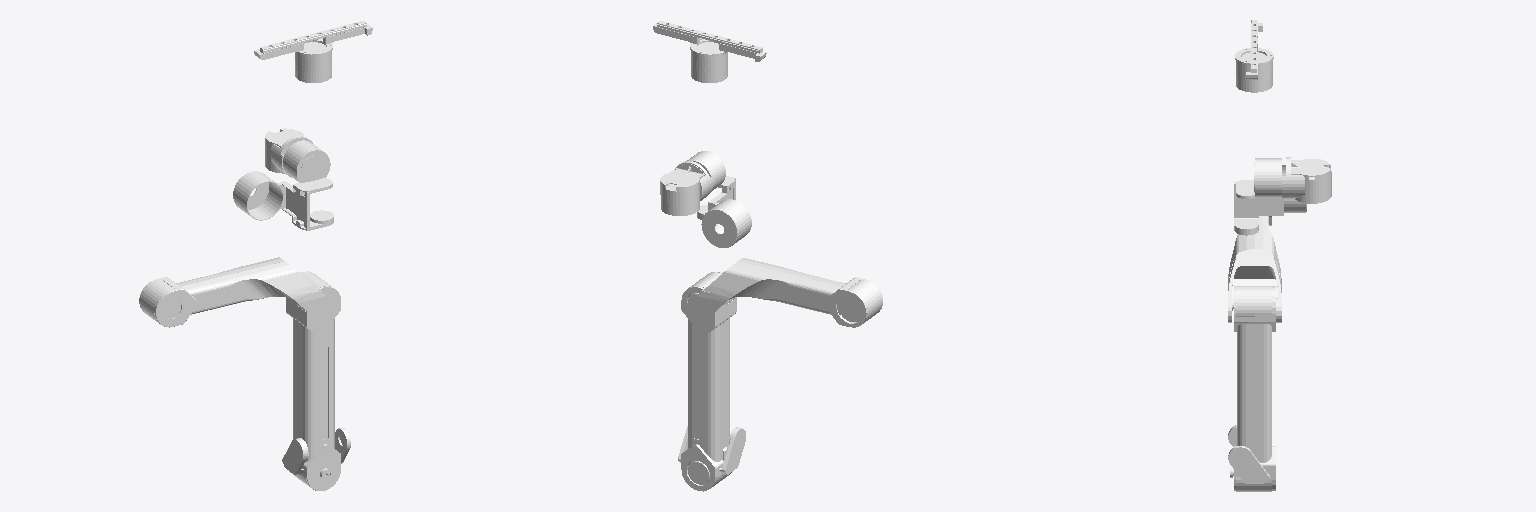
robot.urdf — rm_65_description:
<?xml version="1.0" encoding="utf-8"?>
<robot
  name="rm_65_description">
  <link
    name="base_link">
    <inertial>
      <origin
        xyz="-0.000433277303987328 -3.54664423471128E-05 0.0599427668933796"
        rpy="0 0 0" />
      <mass
        value="0.841070778135659" />
      <inertia
        ixx="0.0017261110801622"
        ixy="2.52746264980217E-06"
        ixz="-3.67690303614961E-05"
        iyy="0.00170987405835604"
        iyz="1.67996364994424E-06"
        izz="0.000904023422915791" />
    </inertial>
    <visual>
      <origin
        xyz="0 0 0"
        rpy="0 0 0" />
      <geometry>
        <mesh
          filename="package://rm_65_description/meshes/base_link.STL" />
      </geometry>
      <material
        name="">
        <color
          rgba="1 1 1 1" />
      </material>
    </visual>
    <collision>
      <origin
        xyz="0 0 0"
        rpy="0 0 0" />
      <geometry>
        <mesh
          filename="package://rm_65_description/meshes/base_link.STL" />
      </geometry>
    </collision>
  </link>
  <link
    name="Link1">
    <inertial>
      <origin
        xyz="1.2226305431569E-08 0.0211079974844683 -0.0251854220842269"
        rpy="0 0 0" />
      <mass
        value="0.593563443690403" />
      <inertia
        ixx="0.00126614120341847"
        ixy="-1.294980943835E-08"
        ixz="-9.80120923066996E-09"
        iyy="0.00118168178300364"
        iyz="-0.00021121727444415"
        izz="0.00056135241627747" />
    </inertial>
    <visual>
      <origin
        xyz="0 0 0"
        rpy="0 0 0" />
      <geometry>
        <mesh
          filename="package://rm_65_description/meshes/link1.STL" />
      </geometry>
      <material
        name="">
        <color
          rgba="1 1 1 1" />
      </material>
    </visual>
    <collision>
      <origin
        xyz="0 0 0"
        rpy="0 0 0" />
      <geometry>
        <mesh
          filename="package://rm_65_description/meshes/link1.STL" />
      </geometry>
    </collision>
  </link>
  <joint
    name="joint1"
    type="revolute">
    <origin
      xyz="0 0 0.2405"
      rpy="0 0 0" />
    <parent
      link="base_link" />
    <child
      link="Link1" />
    <axis
      xyz="0 0 1" />
    <limit
      lower="-3.14"
      upper="3.14"
      effort="60"
      velocity="3.14" />
  </joint>
  <link
    name="Link2">
    <inertial>
      <origin
        xyz="0.152256463426163 4.75383656106654E-07 -0.00620260383607792"
        rpy="0 0 0" />
      <mass
        value="0.864175046869043" />
      <inertia
        ixx="0.00089150298478414"
        ixy="-2.23268489334765E-08"
        ixz="0.00156246461035015"
        iyy="0.00733754343083901"
        iyz="6.28110889329165E-09"
        izz="0.00697869103915473" />
    </inertial>
    <visual>
      <origin
        xyz="0 0 0"
        rpy="0 0 0" />
      <geometry>
        <mesh
          filename="package://rm_65_description/meshes/link2.STL" />
      </geometry>
      <material
        name="">
        <color
          rgba="1 1 1 1" />
      </material>
    </visual>
    <collision>
      <origin
        xyz="0 0 0"
        rpy="0 0 0" />
      <geometry>
        <mesh
          filename="package://rm_65_description/meshes/link2.STL" />
      </geometry>
    </collision>
  </link>
  <joint
    name="joint2"
    type="revolute">
    <origin
      xyz="0 0 0"
      rpy="1.5708 -1.5708 0" />
    <parent
      link="Link1" />
    <child
      link="Link2" />
    <axis
      xyz="0 0 1" />
    <limit
      lower="-2.268"
      upper="2.268"
      effort="60"
      velocity="3.14" />
  </joint>
  <link
    name="Link3">
    <inertial>
      <origin
        xyz="5.05312670989961E-06 -0.0595925663694732 0.010569069212336"
        rpy="0 0 0" />
      <mass
        value="0.289633681624654" />
      <inertia
        ixx="0.00063737100450158"
        ixy="-7.05261293649751E-08"
        ixz="-3.86643272239426E-08"
        iyy="0.00015648388095025"
        iyz="-0.00014461035994916"
        izz="0.000614178164773085" />
    </inertial>
    <visual>
      <origin
        xyz="0 0 0"
        rpy="0 0 0" />
      <geometry>
        <mesh
          filename="package://rm_65_description/meshes/link3.STL" />
      </geometry>
      <material
        name="">
        <color
          rgba="1 1 1 1" />
      </material>
    </visual>
    <collision>
      <origin
        xyz="0 0 0"
        rpy="0 0 0" />
      <geometry>
        <mesh
          filename="package://rm_65_description/meshes/link3.STL" />
      </geometry>
    </collision>
  </link>
  <joint
    name="joint3"
    type="revolute">
    <origin
      xyz="0.256 0 0"
      rpy="0 0 1.5708" />
    <parent
      link="Link2" />
    <child
      link="Link3" />
    <axis
      xyz="0 0 1" />
    <limit
      lower="-2.355"
      upper="2.355"
      effort="30"
      velocity="3.92" />
  </joint>
  <link
    name="Link4">
    <inertial>
      <origin
        xyz="1.15516617405898E-06 -0.0180424468598241 -0.0215394748352687"
        rpy="0 0 0" />
      <mass
        value="0.239419768320061" />
      <inertia
        ixx="0.000285938919722783"
        ixy="3.07101359163101E-09"
        ixz="-2.21994118981953E-09"
        iyy="0.000262727540304212"
        iyz="4.4236583260078E-05"
        izz="0.000119888082791859" />
    </inertial>
    <visual>
      <origin
        xyz="0 0 0"
        rpy="0 0 0" />
      <geometry>
        <mesh
          filename="package://rm_65_description/meshes/link4.STL" />
      </geometry>
      <material
        name="">
        <color
          rgba="1 1 1 1" />
      </material>
    </visual>
    <collision>
      <origin
        xyz="0 0 0"
        rpy="0 0 0" />
      <geometry>
        <mesh
          filename="package://rm_65_description/meshes/link4.STL" />
      </geometry>
    </collision>
  </link>
  <joint
    name="joint4"
    type="revolute">
    <origin
      xyz="0 -0.21 0"
      rpy="1.5708 0 0" />
    <parent
      link="Link3" />
    <child
      link="Link4" />
    <axis
      xyz="0 0 1" />
    <limit
      lower="-3.14"
      upper="3.14"
      effort="10"
      velocity="3.92" />
  </joint>
  <link
    name="Link5">
    <inertial>
      <origin
        xyz="3.19794786262152E-06 -0.0593808368101458 0.00736804250989326"
        rpy="0 0 0" />
      <mass
        value="0.218799761431678" />
      <inertia
        ixx="0.000350540363914072"
        ixy="-3.41781619975602E-08"
        ixz="-1.77056457224373E-08"
        iyy="0.000104927867487581"
        iyz="-7.82431228461971E-05"
        izz="0.000334482418423629" />
    </inertial>
    <visual>
      <origin
        xyz="0 0 0"
        rpy="0 0 0" />
      <geometry>
        <mesh
          filename="package://rm_65_description/meshes/link5.STL" />
      </geometry>
      <material
        name="">
        <color
          rgba="1 1 1 1" />
      </material>
    </visual>
    <collision>
      <origin
        xyz="0 0 0"
        rpy="0 0 0" />
      <geometry>
        <mesh
          filename="package://rm_65_description/meshes/link5.STL" />
      </geometry>
    </collision>
  </link>
  <joint
    name="joint5"
    type="revolute">
    <origin
      xyz="0 0 0"
      rpy="-1.5708 0 0" />
    <parent
      link="Link4" />
    <child
      link="Link5" />
    <axis
      xyz="0 0 1" />
    <limit
      lower="-2.233"
      upper="2.233"
      effort="10"
      velocity="3.92" />
  </joint>
  <link
    name="Link6">
    <inertial>
      <origin
        xyz="0.000714234511756999 -0.000396718732824521 -0.0126723660946126"
        rpy="0 0 0" />
      <mass
        value="0.0649018034311231" />
      <inertia
        ixx="2.02766547502765E-05"
        ixy="-1.32505200276849E-06"
        ixz="-2.5845091522508E-08"
        iyy="1.87986725225022E-05"
        iyz="3.39471452125439E-09"
        izz="3.17885459163081E-05" />
    </inertial>
    <visual>
      <origin
        xyz="0 0 0"
        rpy="0 0 0" />
      <geometry>
        <mesh
          filename="package://rm_65_description/meshes/link6.STL" />
      </geometry>
      <material
        name="">
        <color
          rgba="1 1 1 1" />
      </material>
    </visual>
    <collision>
      <origin
        xyz="0 0 0"
        rpy="0 0 0" />
      <geometry>
        <mesh
          filename="package://rm_65_description/meshes/link6.STL" />
      </geometry>
    </collision>
  </link>
  <joint
    name="joint6"
    type="continuous">
    <origin
      xyz="0 -0.144 0"
      rpy="1.5708 0 0" />
    <parent
      link="Link5" />
    <child
      link="Link6" />
    <axis
      xyz="0 0 1" />
    <limit
      lower="-6.28"
      upper="6.28"
      effort="10"
      velocity="3.92" />
  </joint>
</robot>

--- Facts derived from the render (not from the file) ---
Views: 3 orthographic renders of the robot side by side, from view 1: azimuth 30°, elevation 25°; view 2: azimuth 150°, elevation 25°; view 3: azimuth 270°, elevation 25°.
Robot: rm_65_description — 7 links, 6 joints (5 revolute, 1 continuous); root link base_link; default pose: all joints at 0.
Links seen in each view (by area): view 1: Link2, Link3, Link4, Link6, Link5, Link1; view 2: Link2, Link3, Link5, Link6, Link4, Link1; view 3: Link2, Link5, Link3, Link4, Link6, Link1.
Link boxes in pixels (box(x1,y1,x2,y2)): Link2: box(286, 271, 340, 490); Link3: box(139, 257, 337, 327); Link4: box(233, 171, 333, 230); Link6: box(254, 21, 372, 82); Link5: box(265, 128, 330, 182); Link1: box(282, 428, 350, 474); Link2: box(681, 272, 736, 491); Link3: box(685, 258, 882, 327); Link5: box(660, 151, 725, 215); Link6: box(653, 21, 766, 82); Link4: box(697, 176, 751, 247); Link1: box(678, 426, 745, 474); Link2: box(1230, 286, 1275, 491); Link5: box(1254, 157, 1331, 203); Link3: box(1228, 216, 1281, 322); Link4: box(1234, 180, 1306, 235); Link6: box(1235, 20, 1273, 92); Link1: box(1228, 425, 1269, 483).
Bounding box of the posed robot: 0.3631 × 0.1485 × 0.7058 m (x, y, z).
6 mesh visuals loaded from 7 distinct referenced files (6 binary STL); not drawn: 1 (reference not matched to a file when rendering).
